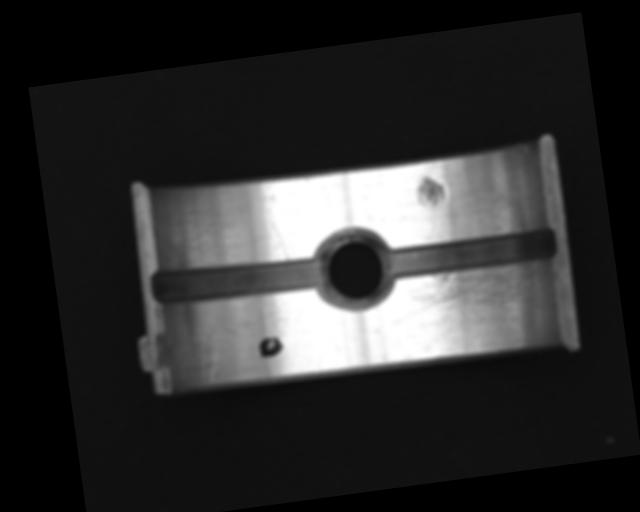blot: (257, 335, 284, 359)
bruise: (414, 175, 447, 210)
gap: (148, 246, 330, 310), (382, 224, 558, 282)
hole: (313, 223, 399, 313)
nick: (266, 206, 288, 262)
scratch: (383, 257, 557, 340)
